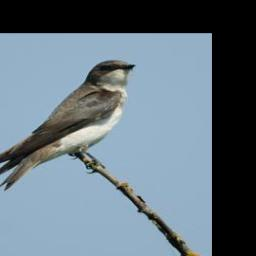Swallow: (0, 59, 137, 192)
